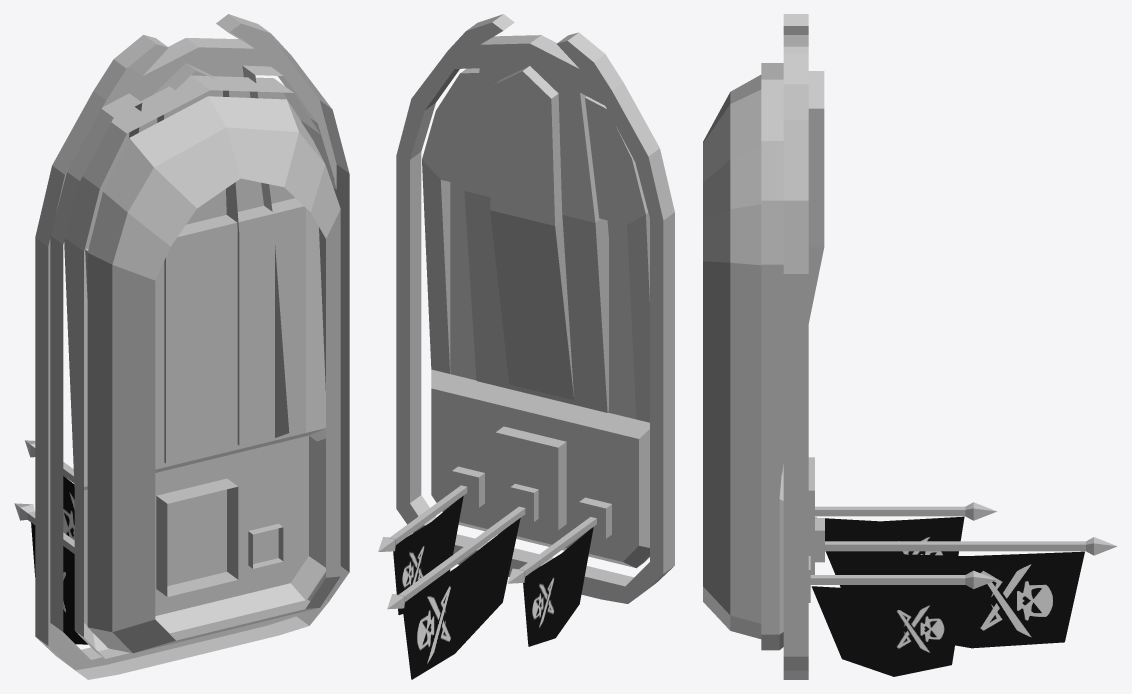
File: pirate_guide_my_ship_4.fbx
The picture shows the model from 3 angles, left to right: view 1: azimuth 30°, elevation 25°; view 2: azimuth 150°, elevation 25°; view 3: azimuth 270°, elevation 25°; orthographic projection. The views are drawn at different scales.
Visible parts, largest first — view 1: Cube.407; view 2: Cube.407; view 3: Cube.407.
Boxes of the visible parts, box(x1,y1,x2,y2) form: Cube.407: box(14, 14, 349, 679); Cube.407: box(378, 14, 674, 679); Cube.407: box(703, 14, 1117, 679).
Bounding box in the file's own units: 329 × 667 × 408.
